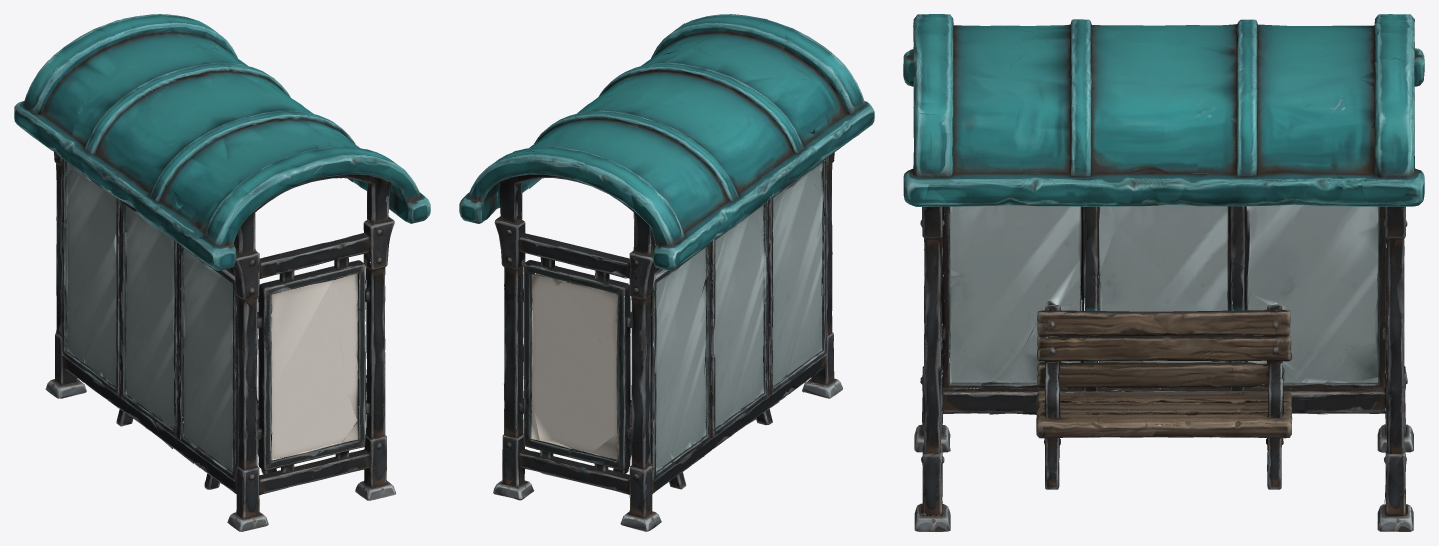
File: BusStop.fbx
3 renders of one model, left to right at view 1: azimuth 30°, elevation 25°; view 2: azimuth 150°, elevation 25°; view 3: azimuth 270°, elevation 25°, orthographic. The views are drawn at different scales.
Parts seen in each view (by area): view 1: BusStop; view 2: BusStop; view 3: BusStop.
Boxes of the visible parts, <box> form: BusStop: <box>14,14,430,531</box>; BusStop: <box>459,14,874,531</box>; BusStop: <box>903,14,1424,531</box>.
Bounding box in the file's own units: 1.9 × 2.95 × 3.1.
Materials: 1 (1 with a texture image).
